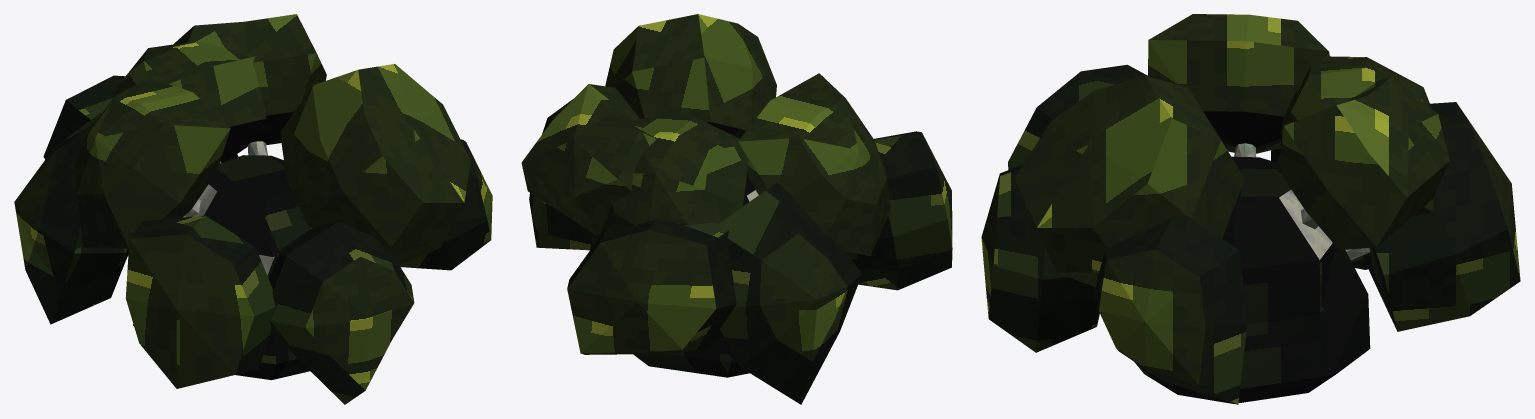
Rendered from forest_bush_low.glb.
3 views of the same model, side by side, from view 1: azimuth 30°, elevation 25°; view 2: azimuth 150°, elevation 25°; view 3: azimuth 270°, elevation 25° (orthographic). The views are drawn at different scales.
Visible parts, largest first — view 1: ForestBush; view 2: ForestBush; view 3: ForestBush.
Part boxes in pixels (left/top/right/bottom): ForestBush: left=14, top=14, right=492, bottom=404; ForestBush: left=521, top=14, right=952, bottom=404; ForestBush: left=981, top=14, right=1520, bottom=404.
Size of what is drawn, in the model's own units: 1.85 by 1.3 by 2.
Materials: 2 (2 with a texture image).
